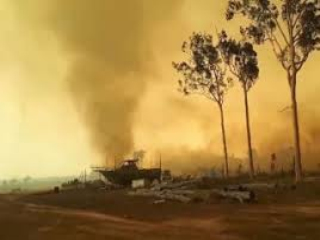smoke: (53, 6, 159, 167)
